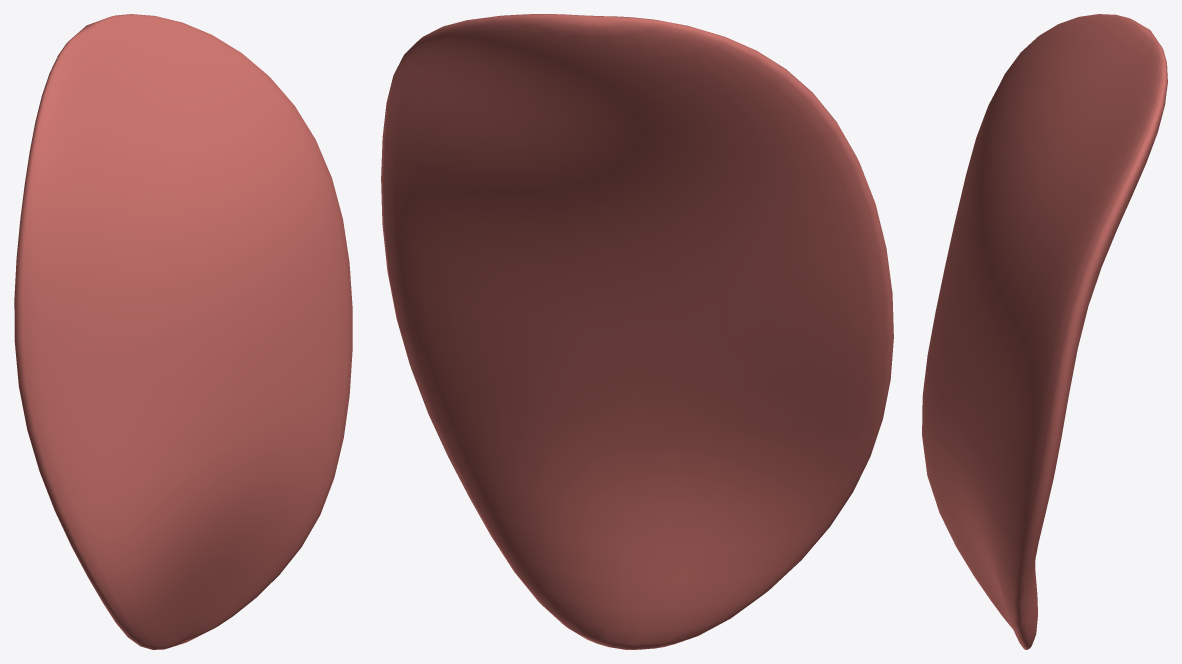
3 views of the same model, side by side, from view 1: azimuth 30°, elevation 25°; view 2: azimuth 150°, elevation 25°; view 3: azimuth 270°, elevation 25° (orthographic). The views are drawn at different scales.
Visible parts, largest first — view 1: 左侧肩峰皮下囊; view 2: 左侧肩峰皮下囊; view 3: 左侧肩峰皮下囊.
Part boxes in pixels (bbox=[...]): 左侧肩峰皮下囊: bbox=[14, 14, 352, 649]; 左侧肩峰皮下囊: bbox=[381, 14, 893, 649]; 左侧肩峰皮下囊: bbox=[922, 14, 1167, 649].
Size of the model in its own units: 0.0445 by 0.0655 by 0.0247.
